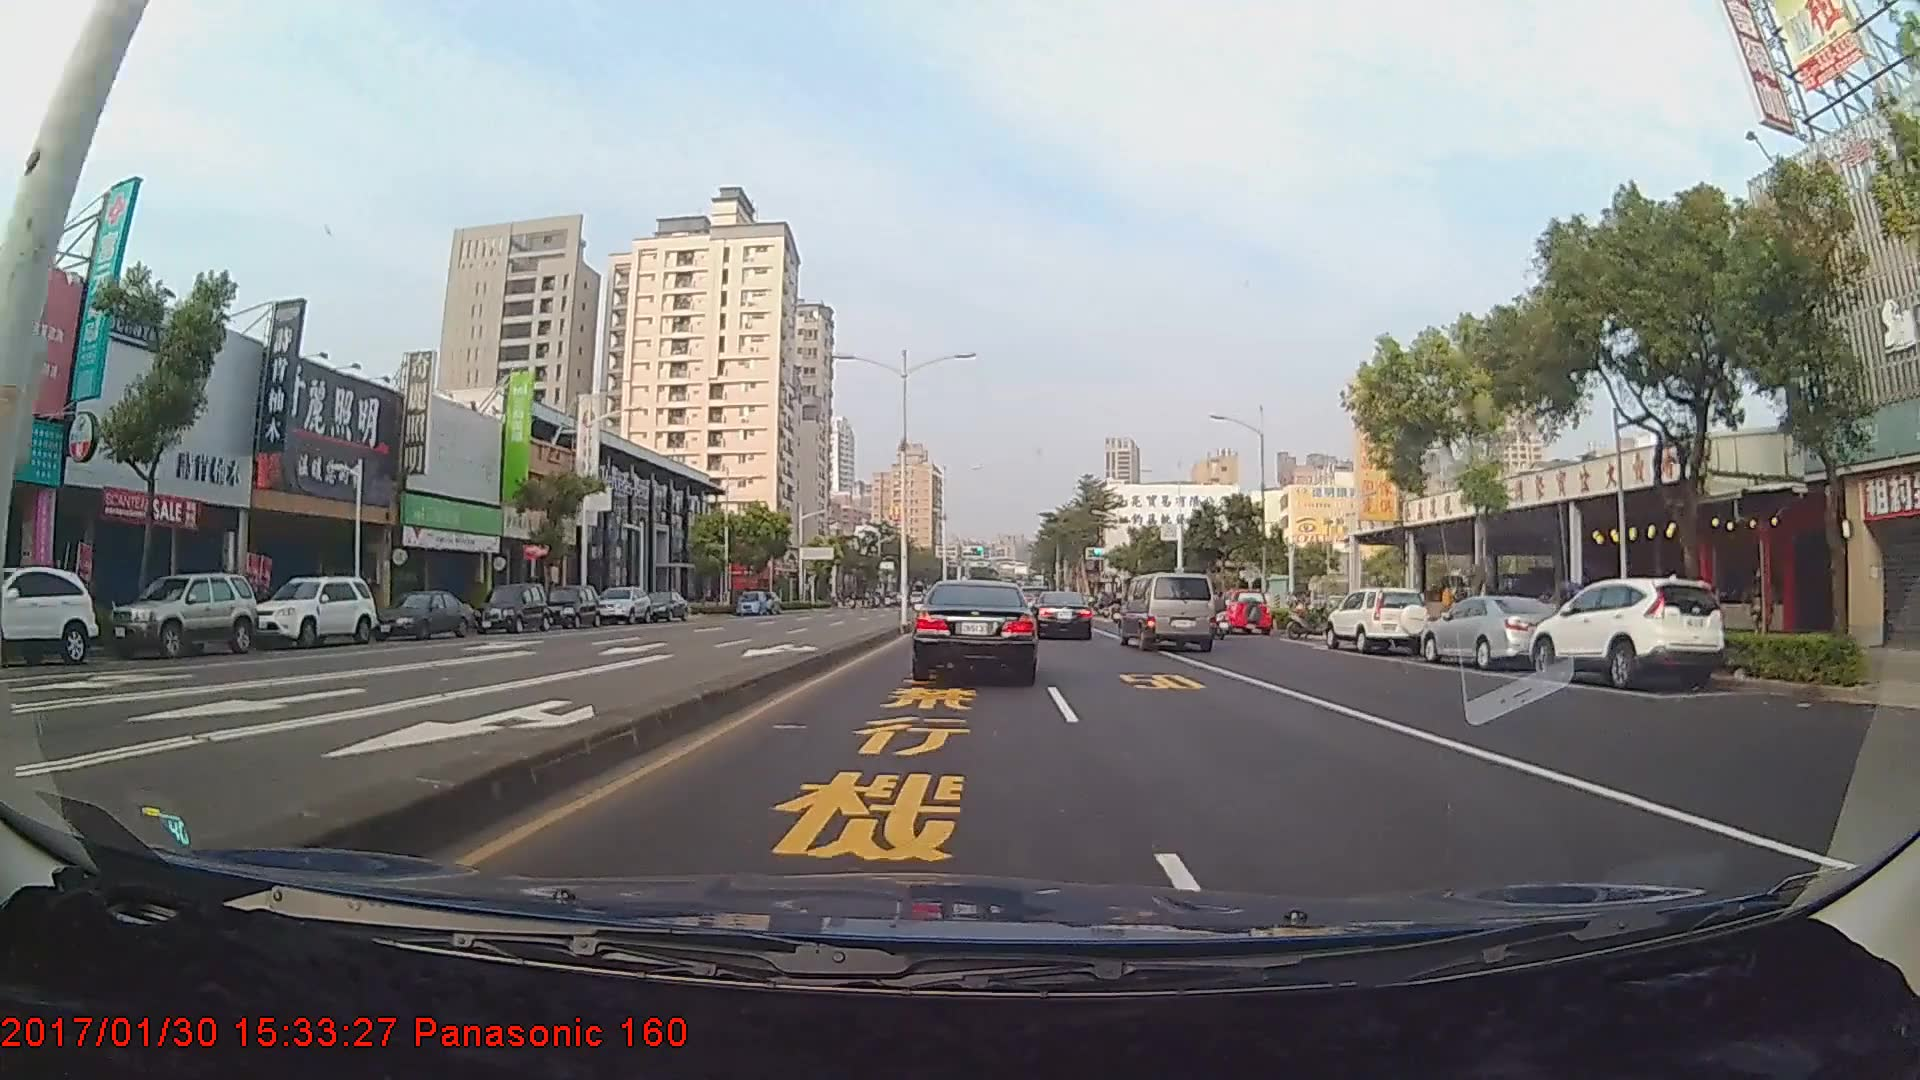vehicle: (1527, 574, 1727, 690), (913, 578, 1039, 684), (108, 571, 258, 655), (1418, 592, 1553, 673), (0, 562, 99, 665), (247, 571, 375, 645), (1118, 572, 1216, 651), (1324, 587, 1431, 655), (368, 591, 473, 641), (471, 582, 549, 632), (1031, 591, 1093, 641), (541, 583, 599, 628), (595, 585, 653, 625), (1222, 591, 1273, 636), (638, 587, 687, 621), (733, 589, 764, 617)
